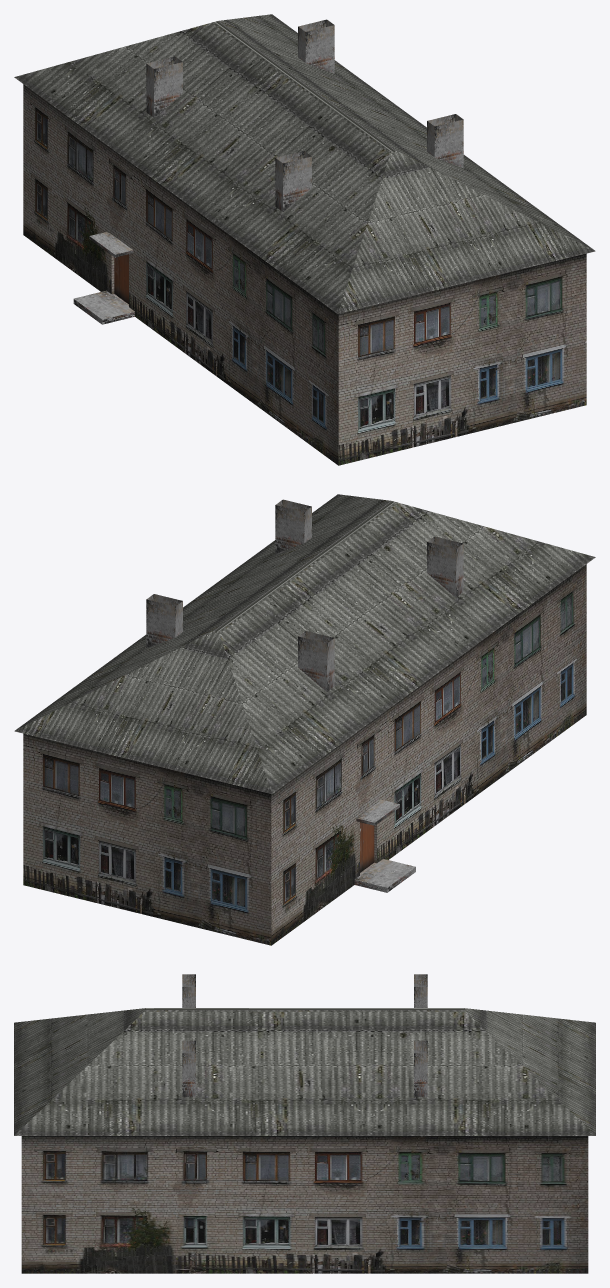
The model's file is d_dom_2et_8.FBX.
3 views of the same model, one above another, from view 1: azimuth 30°, elevation 25°; view 2: azimuth 150°, elevation 25°; view 3: azimuth 270°, elevation 25° (orthographic). The views are drawn at different scales.
Visible parts, largest first — view 1: d_dom_2et_8; view 2: d_dom_2et_8; view 3: d_dom_2et_8.
Boxes of the visible parts, x1,y1,x2,y2 form: d_dom_2et_8: [14, 14, 595, 465]; d_dom_2et_8: [14, 494, 595, 945]; d_dom_2et_8: [14, 974, 595, 1273].
Size of the model in its own units: 11.52 by 22.6 by 9.
